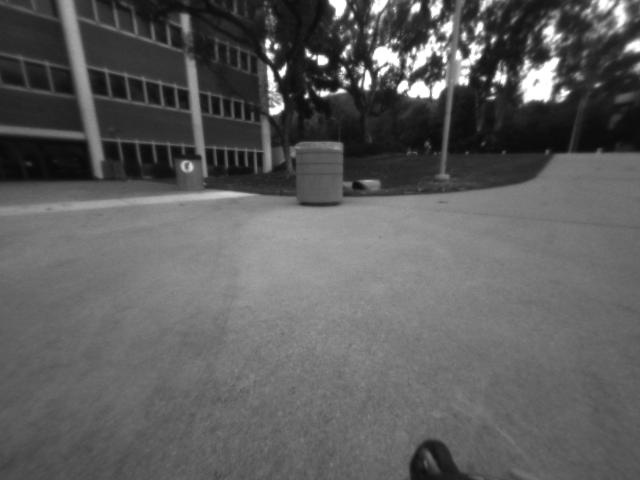trashcan: (289, 139, 348, 208), (171, 148, 211, 197)
